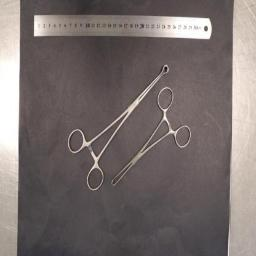Allis Tissue Forceps: (110, 87, 192, 187)
